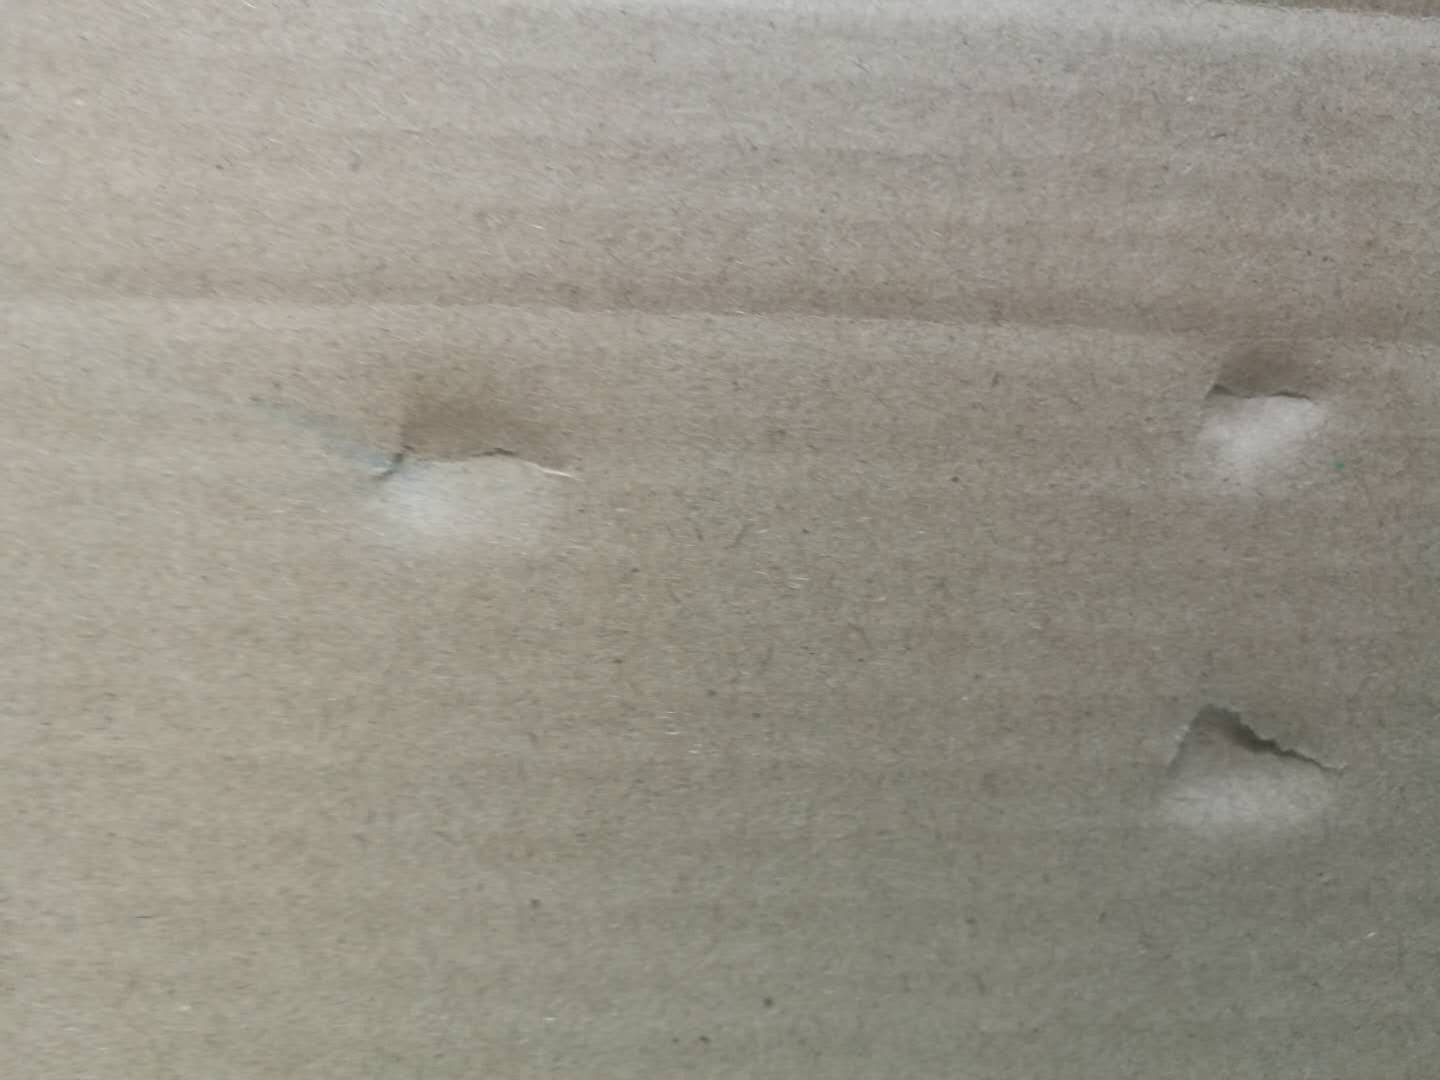defect: (3, 229, 1440, 388), (259, 361, 616, 559), (1124, 670, 1359, 859), (1174, 344, 1344, 492)
